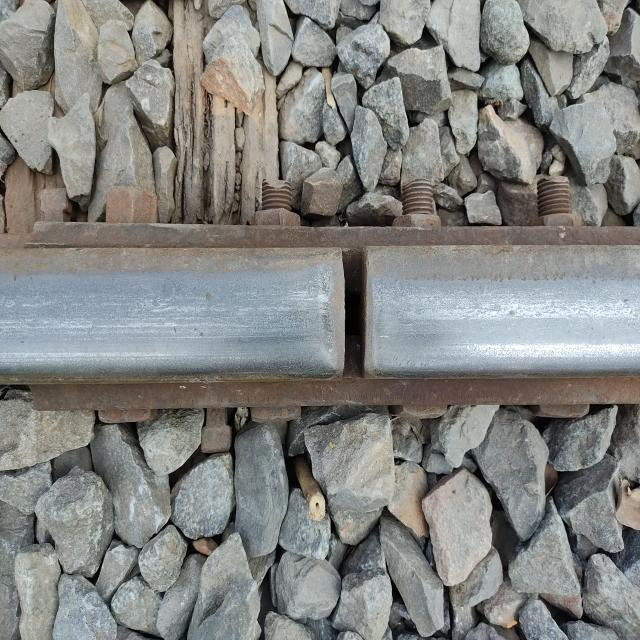defective: (248, 191, 518, 435)
